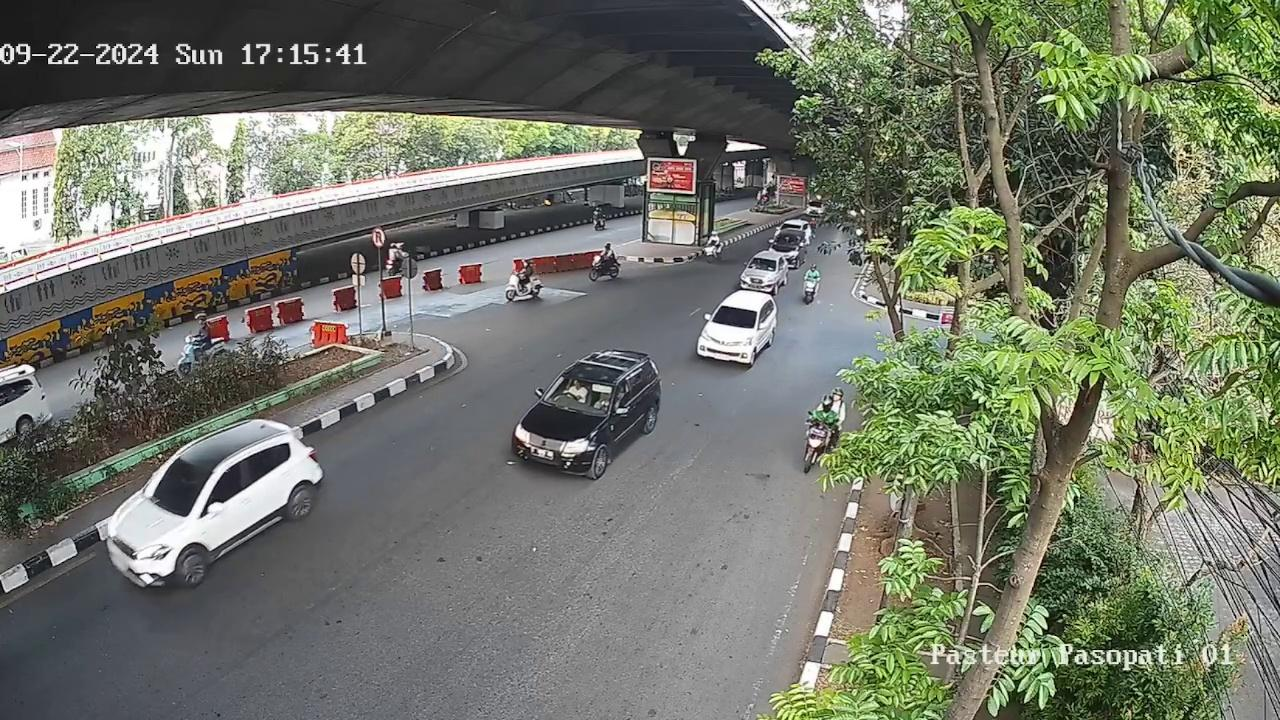tidak-pakai: (561, 378, 588, 408)
windshield: (148, 456, 213, 511), (544, 369, 620, 416), (710, 306, 758, 327)
